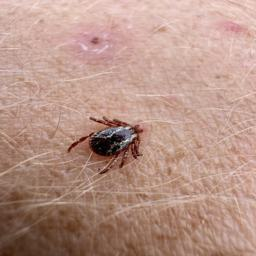Dermacentor variabilis: (67, 114, 145, 174)
